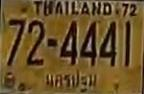1: (124, 20, 130, 66)
2: (26, 19, 44, 64)
4: (80, 20, 97, 65), (99, 20, 115, 66), (60, 20, 76, 64)
7: (7, 18, 24, 64)
NPT: (43, 67, 97, 91)
